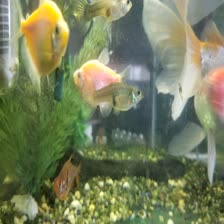Guppy: (90, 84, 146, 115)
Plano: (13, 0, 72, 79), (68, 47, 127, 103)
Transparente: (49, 148, 84, 203)
